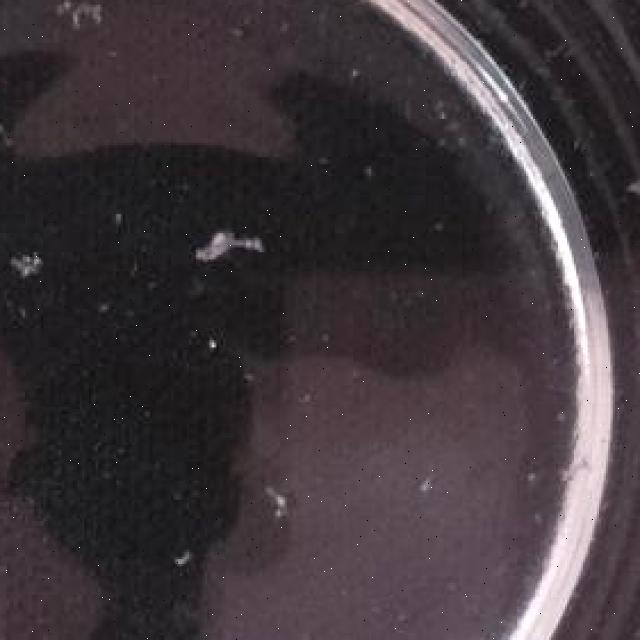Microplastic: (178, 214, 266, 264), (45, 0, 113, 33), (255, 483, 287, 545), (0, 245, 48, 278), (175, 547, 203, 583)
